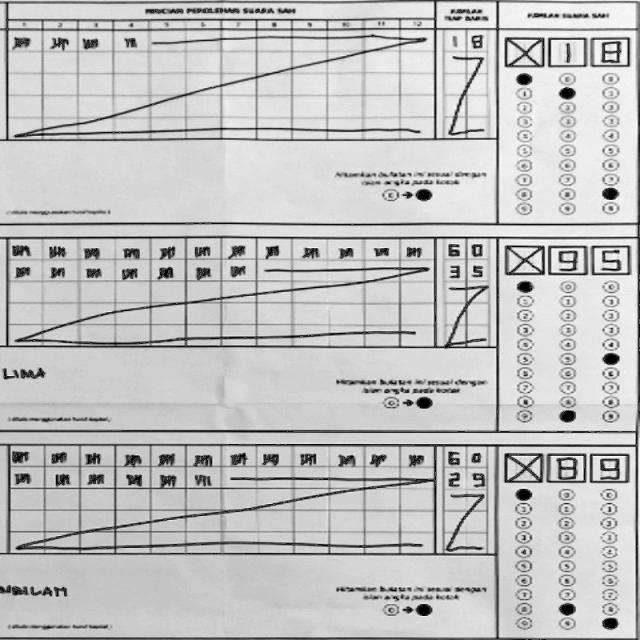Suara: (498, 442, 628, 483), (502, 240, 628, 278), (498, 33, 630, 69)
